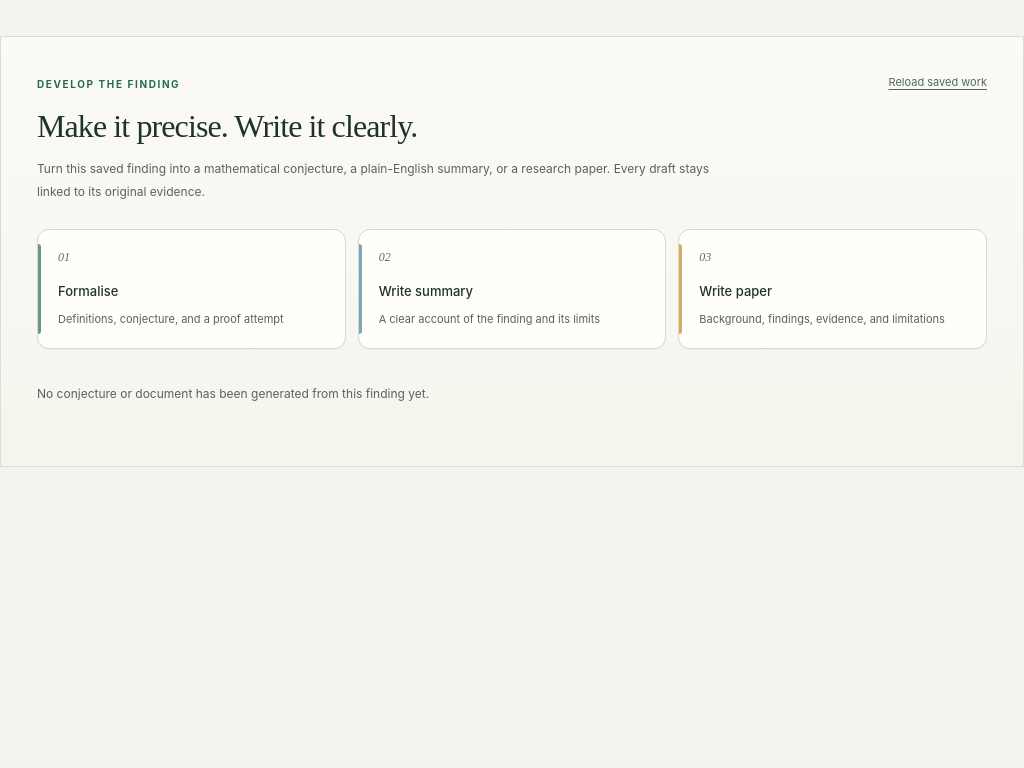
Scenario: source-bound Formalise and Write workspace › reports a lost create response without automatically submitting again
Click the button "Write summary". click: (426, 291)
box: x1=358 y1=229 x2=666 y2=349
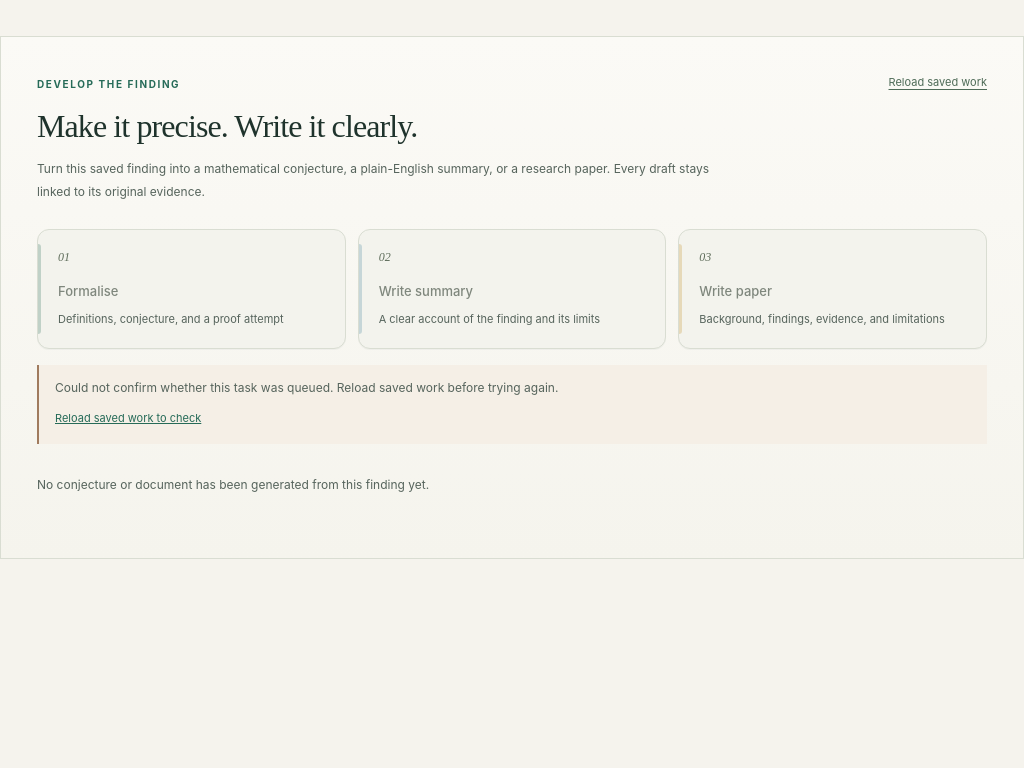
Result: the message shows "Could not confirm whether this task was queued" at x1=55 y1=380 x2=558 y2=395
Result: the button "Write summary" is disabled at x1=358 y1=229 x2=666 y2=349
Click the button "Reload saved work". click: (938, 82)
box: x1=888 y1=69 x2=987 y2=95
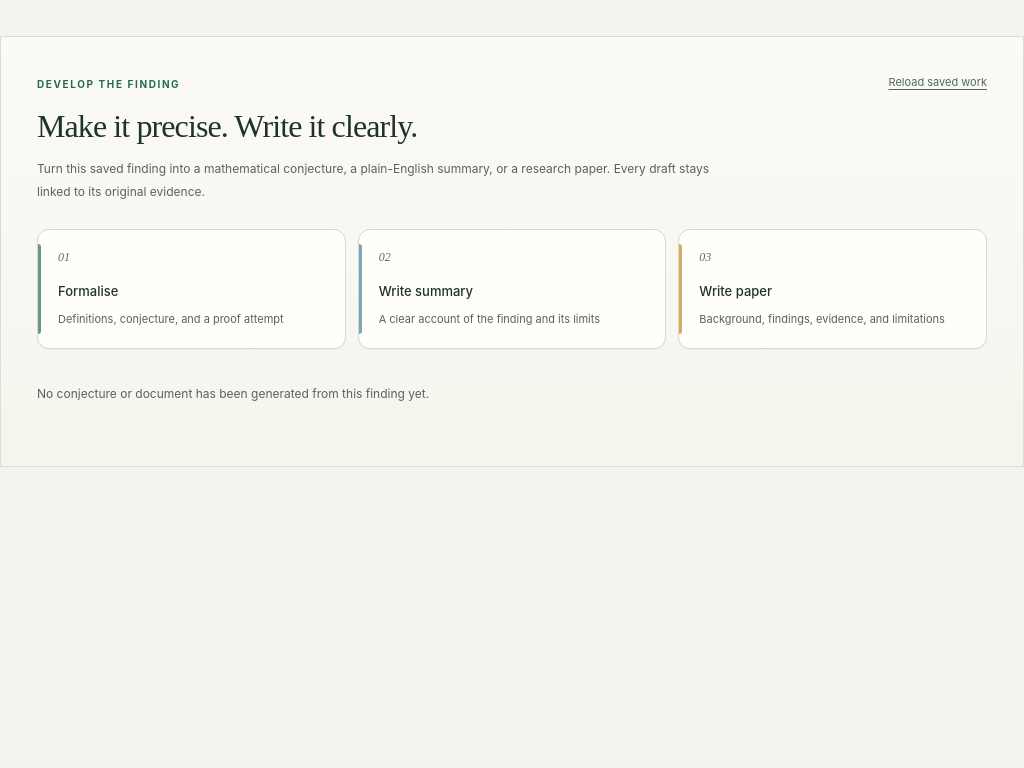
Result: the button "Write summary" is enabled at x1=358 y1=229 x2=666 y2=349
